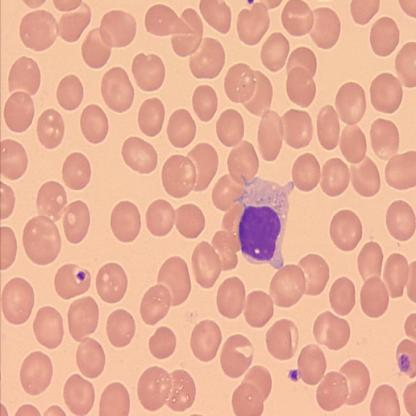Atypical lymphocyte: (231, 170, 297, 274)
